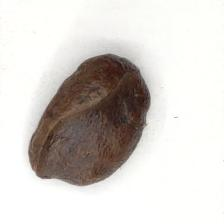NG: (35, 110, 124, 186), (101, 72, 150, 152)
